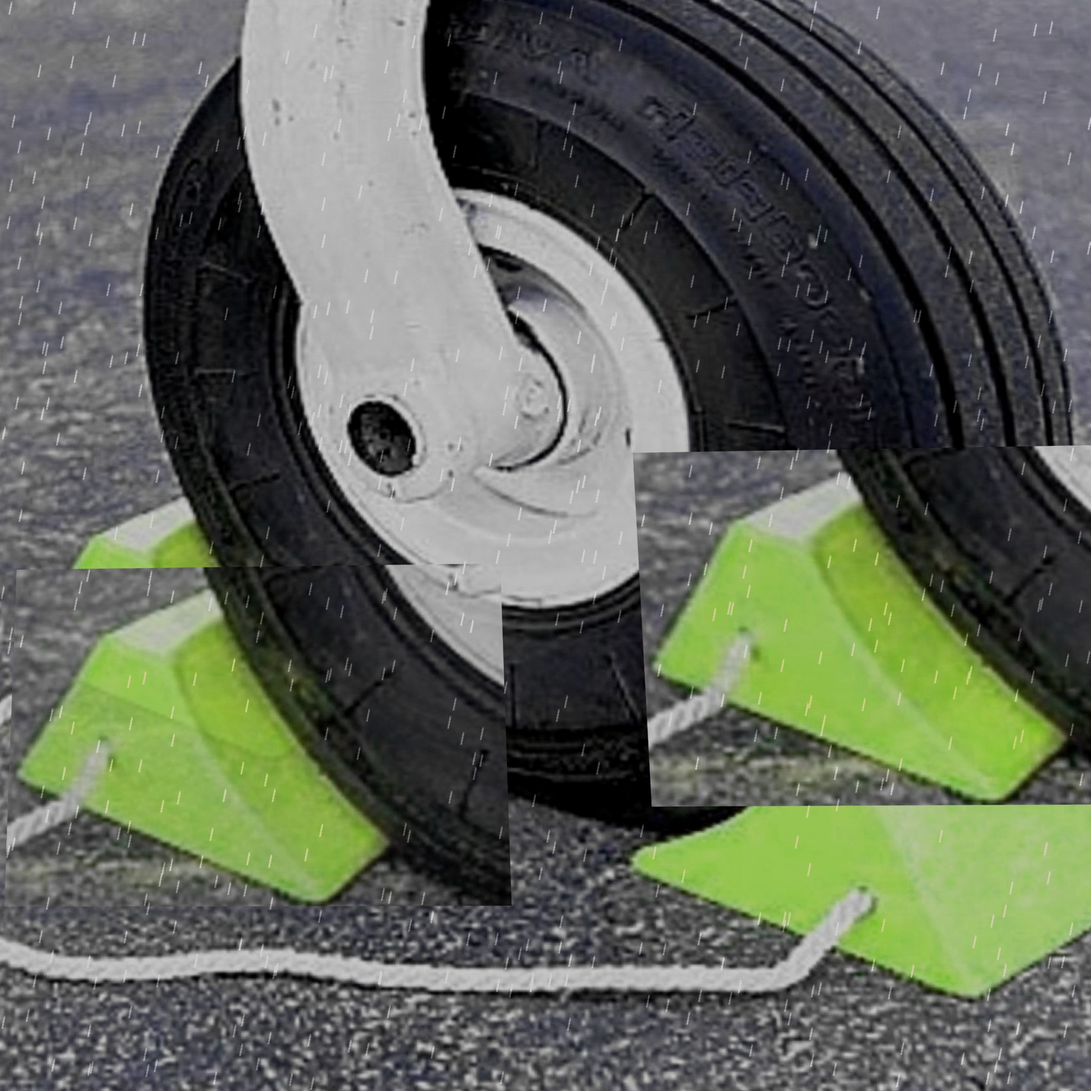chock: (622, 624, 1091, 999), (4, 564, 512, 907), (633, 444, 1091, 807), (10, 475, 438, 762)
wheel: (122, 0, 1091, 844)
